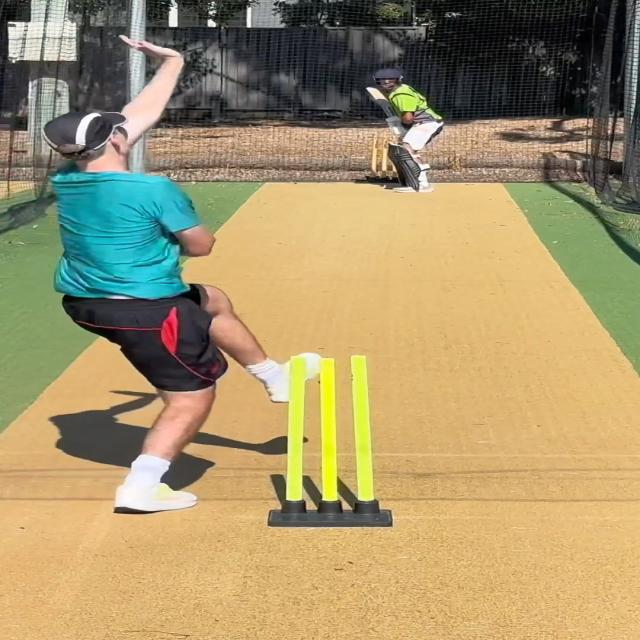stump: (266, 352, 394, 528)
